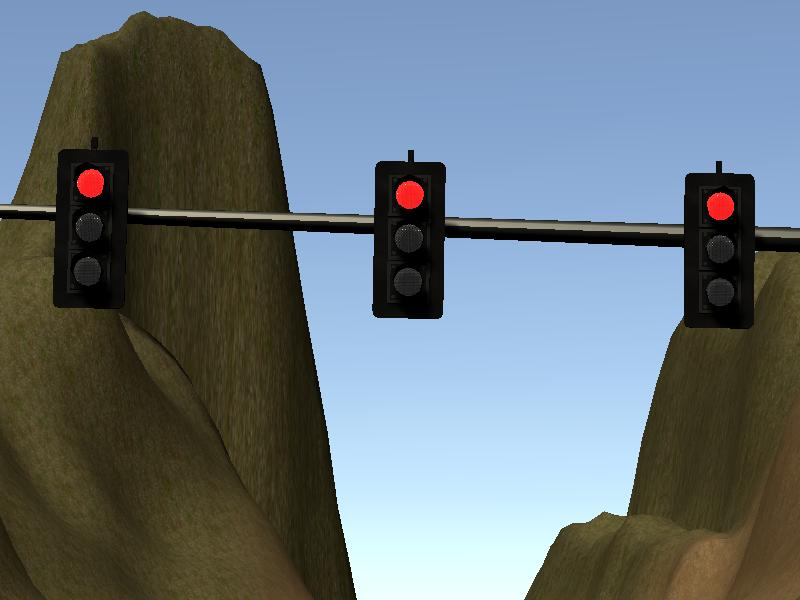Red: (56, 150, 126, 307), (377, 159, 444, 318), (686, 171, 753, 329)
